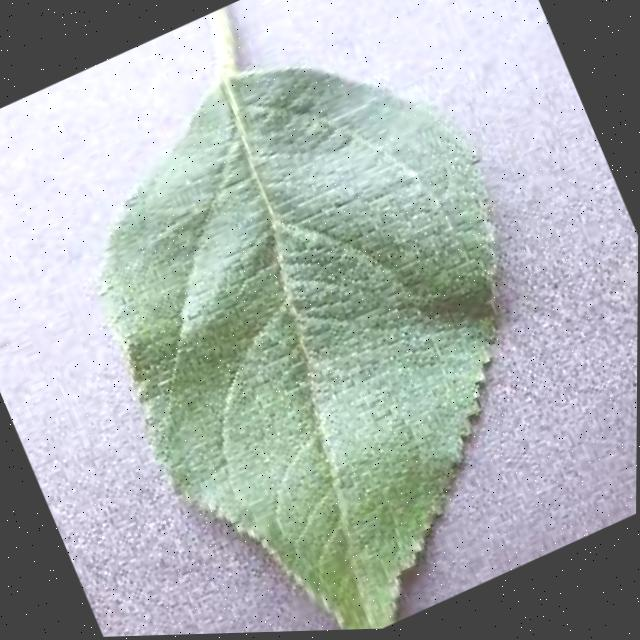healthy: (10, 0, 640, 640)
